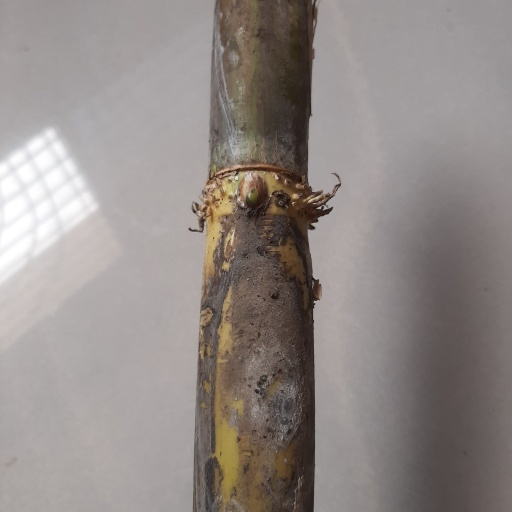Bud: (235, 172, 270, 215)
